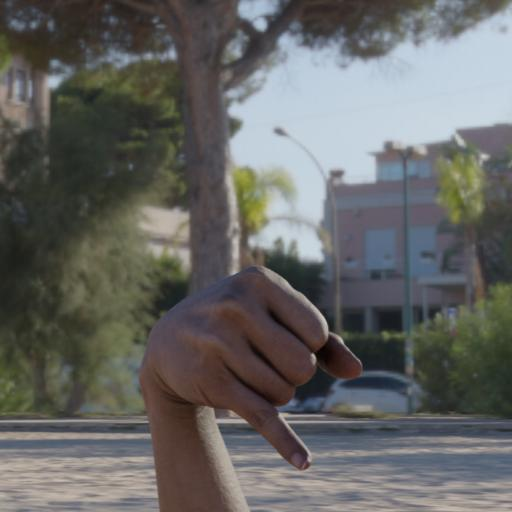J: (136, 248, 364, 484)
